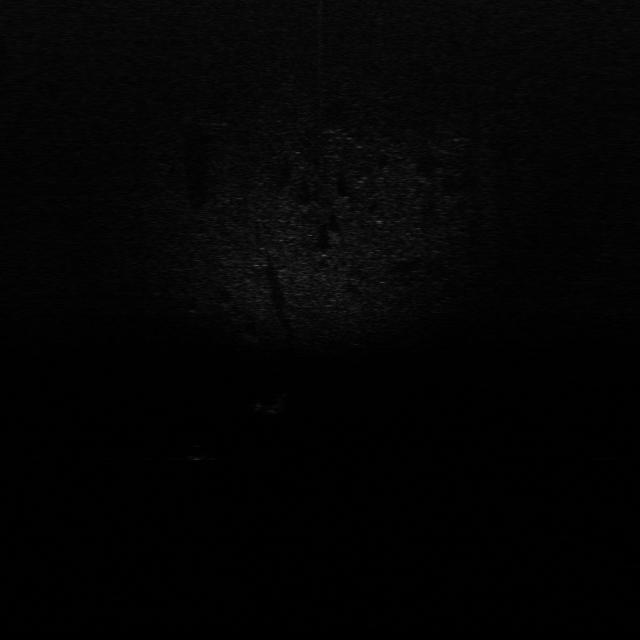ball: (183, 440, 212, 463)
human body: (249, 388, 297, 417)
